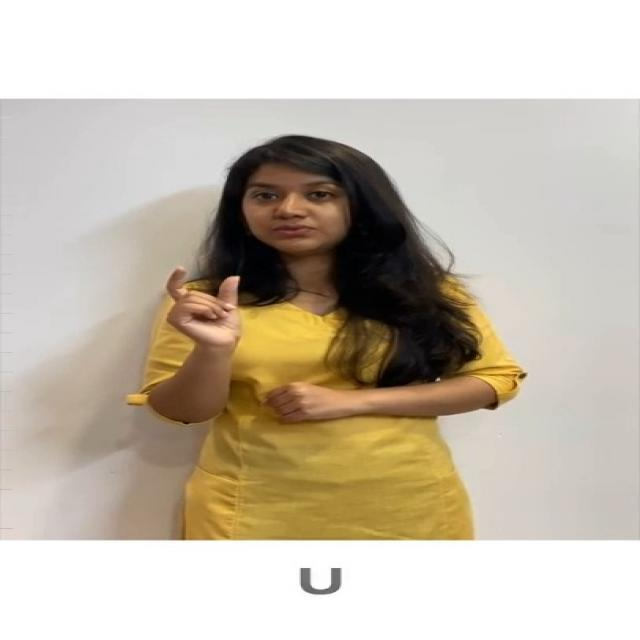U: (143, 263, 264, 360)
